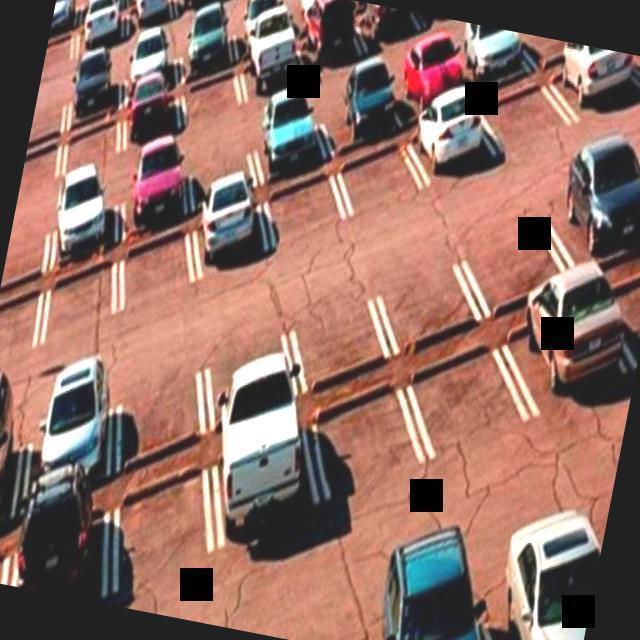space-empty: (307, 357, 438, 513), (405, 319, 526, 481), (99, 479, 213, 601), (374, 243, 493, 354), (284, 278, 396, 391), (459, 217, 566, 323), (195, 320, 301, 418), (116, 222, 203, 340), (115, 349, 210, 457), (254, 169, 349, 273), (39, 245, 118, 366), (178, 53, 245, 146), (337, 149, 414, 226), (489, 83, 563, 160), (0, 291, 45, 397), (58, 121, 126, 186), (182, 147, 254, 207), (1, 228, 60, 298), (18, 143, 60, 201), (40, 28, 77, 91)
space-occupied: (202, 390, 337, 543), (510, 269, 617, 420), (465, 531, 601, 640), (362, 555, 516, 640), (10, 372, 123, 487), (11, 499, 125, 605), (560, 145, 640, 274), (187, 181, 284, 271), (406, 95, 496, 180), (240, 7, 312, 110), (249, 108, 333, 188), (551, 41, 640, 116), (117, 72, 182, 170), (328, 79, 408, 155), (447, 21, 532, 92), (392, 40, 478, 108), (117, 168, 196, 235), (47, 188, 123, 257), (298, 0, 366, 74), (169, 18, 241, 84), (126, 33, 190, 101), (69, 52, 125, 129), (0, 413, 32, 542), (354, 2, 419, 55), (125, 0, 179, 39), (81, 0, 129, 41), (48, 0, 81, 44), (174, 0, 229, 22)
